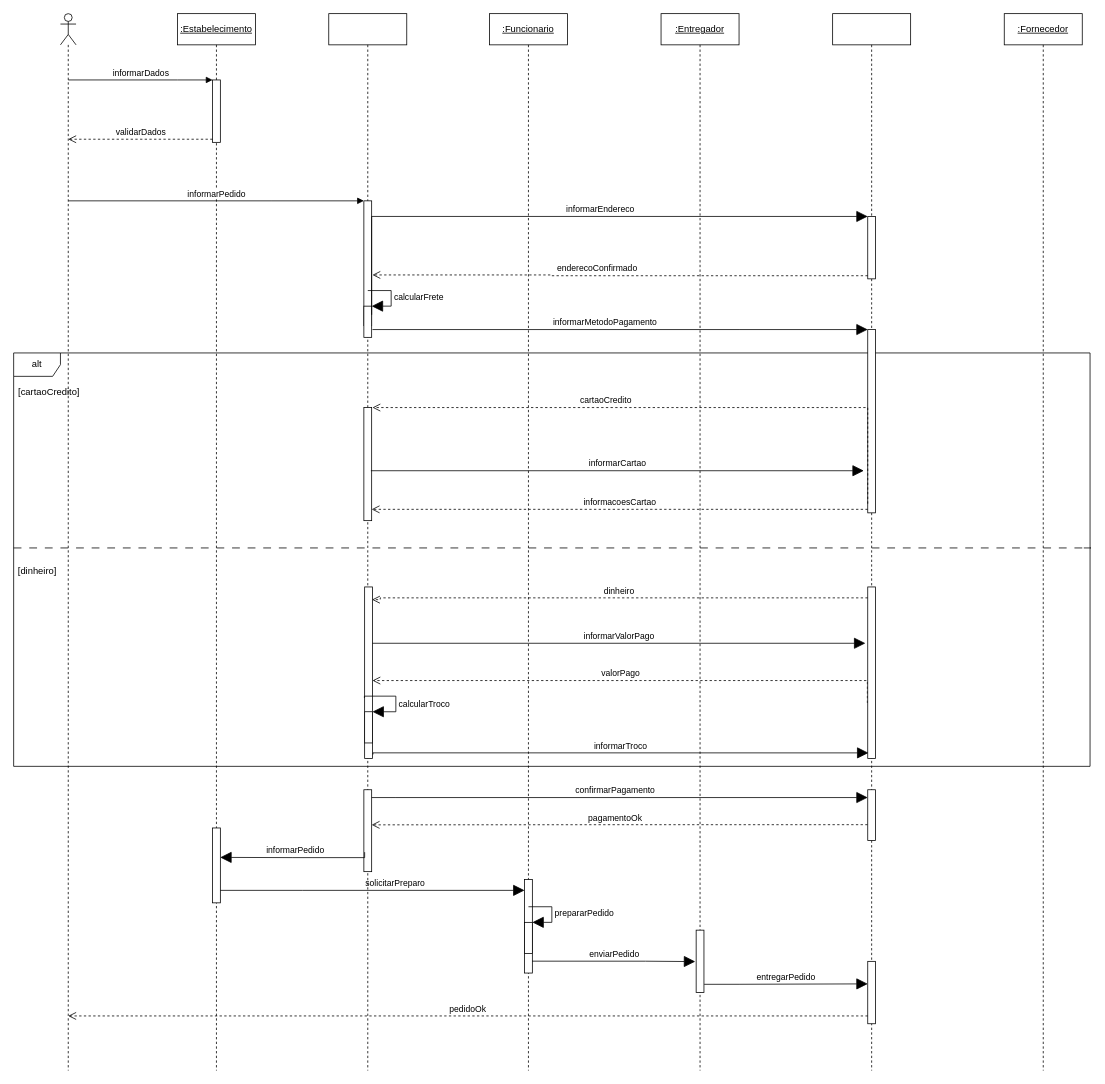
This 1105x1084 diagram has some shape labels left out. The shapes that lost their labels are listed below. From the top down, each one's centre as x and y in pixels, then its label:
At point 367,542: ":Pedido".
At point 871,542: ":Consumidor".
